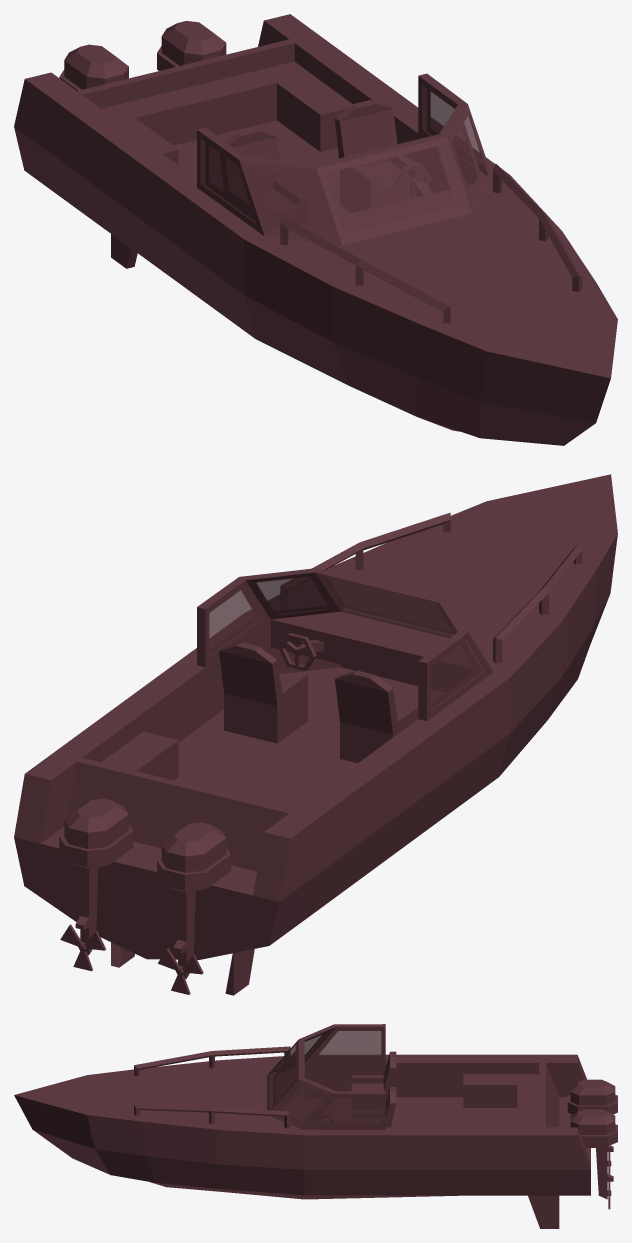
The model's file is boat-speed.fbx.
The picture shows the model from 3 angles, top to bottom: view 1: azimuth 30°, elevation 25°; view 2: azimuth 150°, elevation 25°; view 3: azimuth 270°, elevation 25°; orthographic projection. The views are drawn at different scales.
Parts seen in each view (by area): view 1: boat-speed; view 2: boat-speed; view 3: boat-speed.
Boxes of the visible parts, x1,y1,x2,y2 form: boat-speed: [14, 14, 617, 445]; boat-speed: [14, 474, 617, 995]; boat-speed: [14, 1024, 617, 1228].
Size of the model in its own units: 3 by 2.63 by 9.5.
